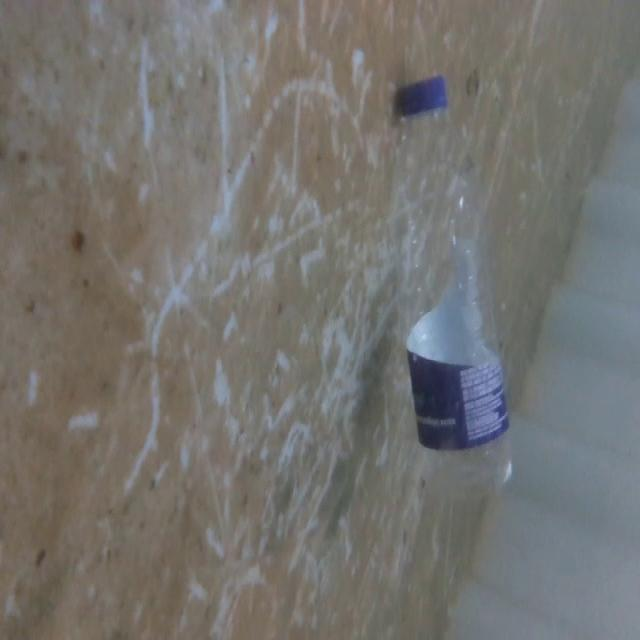plastic bottle: (377, 64, 532, 536)
